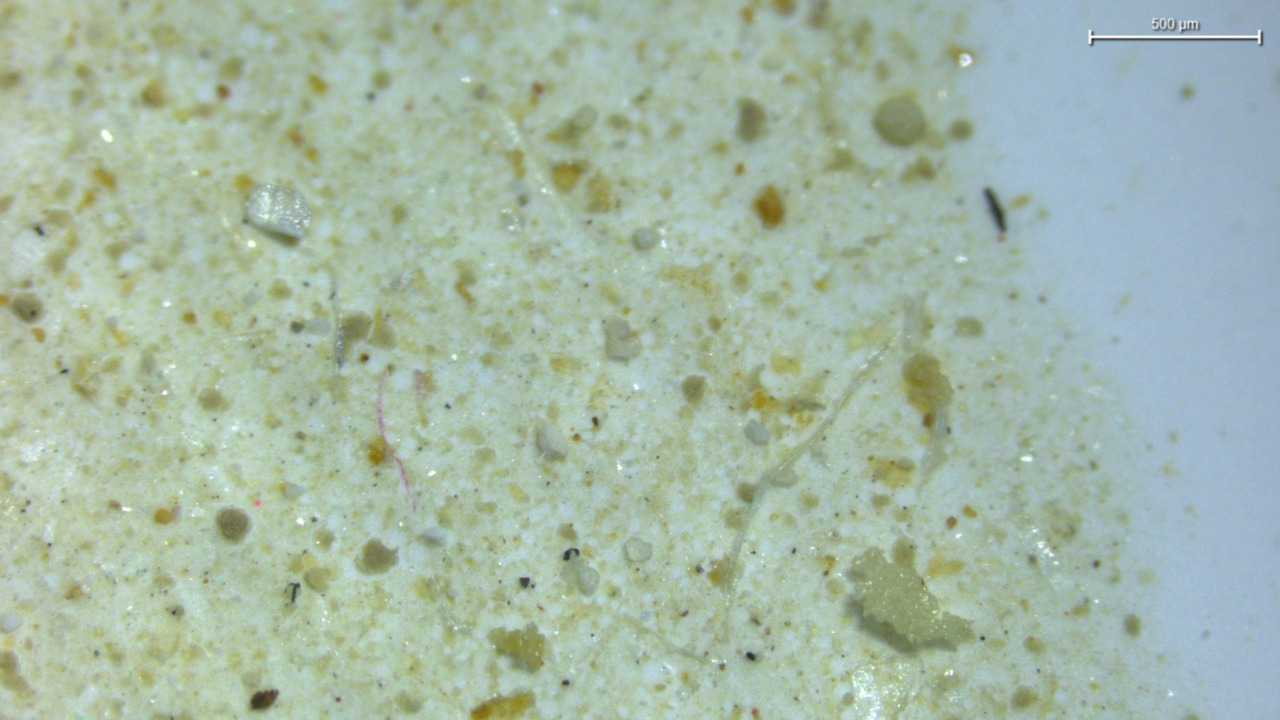microplastic_fragment: (848, 548, 975, 651), (245, 184, 311, 239), (603, 318, 642, 362), (534, 425, 568, 460), (576, 563, 599, 595), (624, 537, 652, 563), (744, 420, 770, 445)
